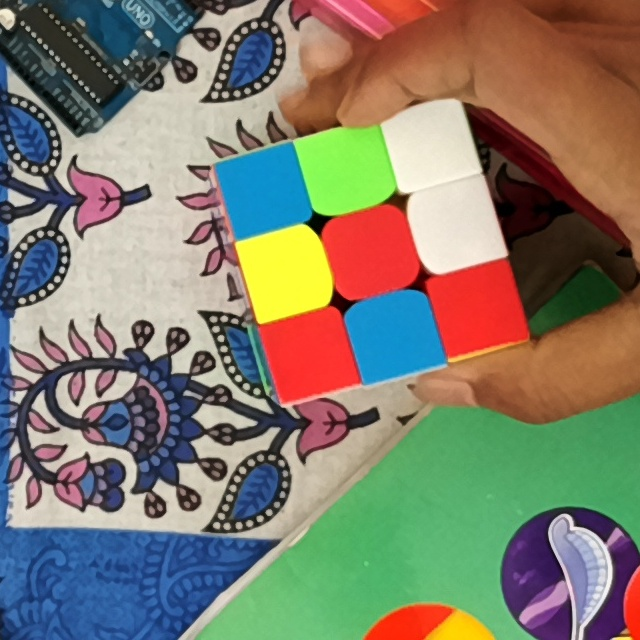tile: (336, 221, 406, 285), (422, 193, 490, 257), (445, 275, 510, 340), (360, 305, 428, 366), (253, 241, 317, 305), (312, 139, 379, 200), (274, 325, 341, 384), (231, 162, 295, 222), (399, 115, 464, 173)
